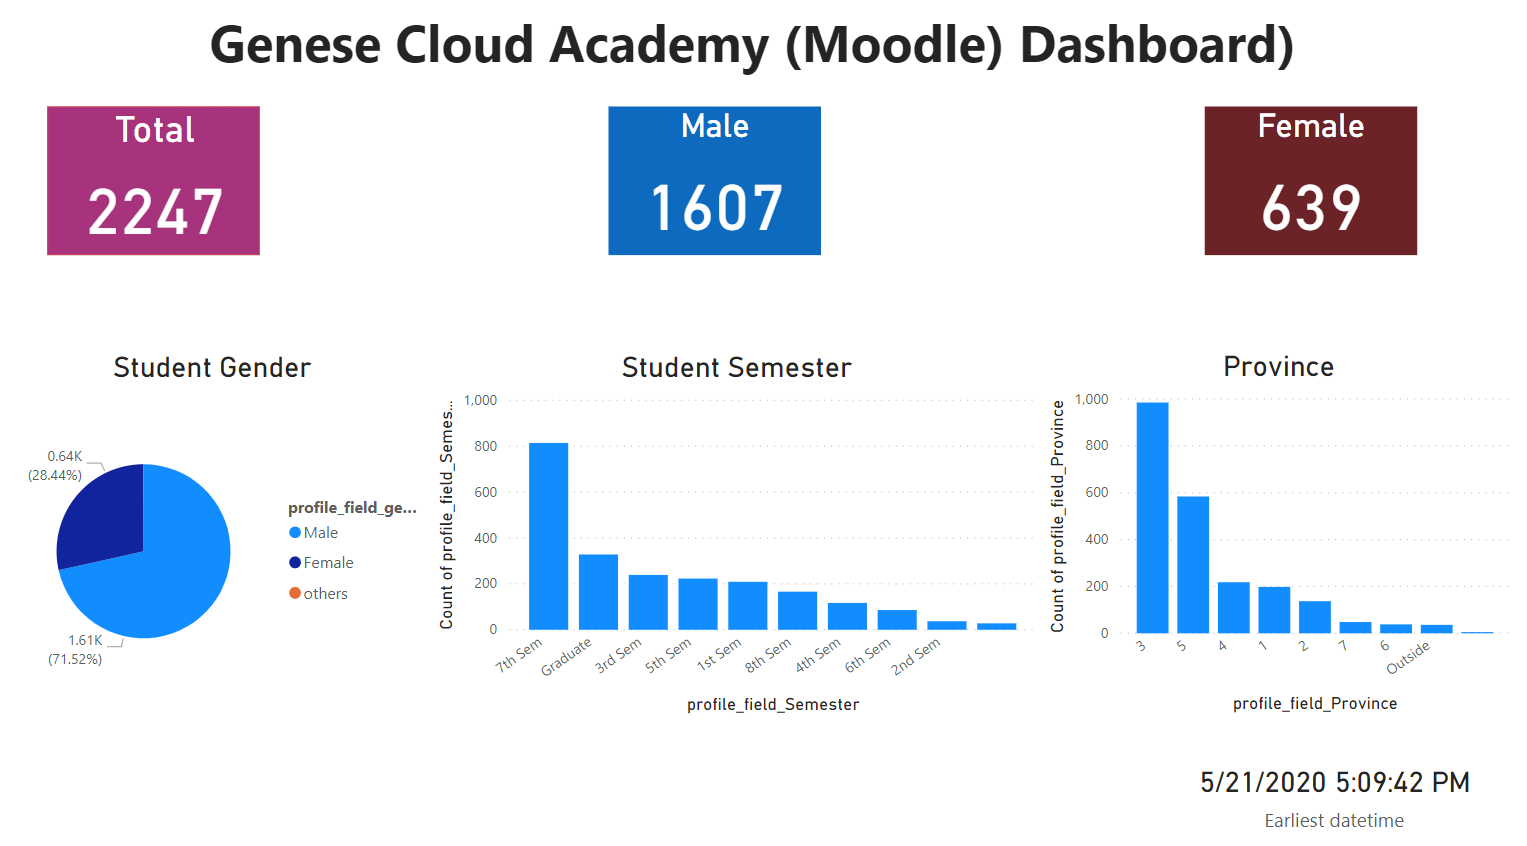

The dashboard page shown, as its layout file describes it:
{"tool":"powerbi","page":{"name":"Dashboard","canvas":[1280,720],"ordinal":0},"visuals":[{"type":"pieChart","title":"Student Gender","fields":{"Category":["user_latest.profile_field_gender1"],"Series":["user_latest.profile_field_gender1"],"Y":["CountNonNull(user_latest.profile_field_gender)"]},"box":[2.1,303.2,367.2,310.5],"z":0},{"type":"columnChart","title":"Student Semester","fields":{"Category":["user_latest.profile_field_Semester1"],"Y":["CountNonNull(user_latest.profile_field_Semester)1"]},"box":[369.4,303.2,513.4,310.5],"z":1000},{"type":"columnChart","title":"Province","fields":{"Category":["user_latest.profile_field_Province1"],"Y":["CountNonNull(user_latest.profile_field_Province)1"]},"box":[882.3,302.7,397.4,310.5],"z":2000},{"type":"card","title":"Total","fields":{"Values":["CountNonNull(user_latest.id)"]},"box":[47.1,98.8,178.8,124.4],"z":3000},{"type":"card","title":"Male","fields":{"Values":["CountNonNull(user_latest.profile_field_gender)"]},"box":[518.2,98.8,178.8,124.4],"z":4000},{"type":"card","title":"Female","fields":{"Values":["CountNonNull(user_latest.profile_field_gender)"]},"box":[1019.5,98.8,178.8,124.4],"z":5000},{"type":"textbox","box":[0,10.9,1279.3,72.5],"z":6000},{"type":"card","fields":{"Values":["Min(Kathmandu.datetime)"]},"box":[994.2,641.5,268.2,68.9],"z":7000}]}

Visuals, with their boxes in screenshot pixels (x1, y1, x2, y2), scaled from the page's 1280x720 canvas onto the 1527x846 screenshot:
"Student Gender" pieChart: x1=3, y1=356, x2=441, y2=721
"Student Semester" columnChart: x1=441, y1=356, x2=1053, y2=721
"Province" columnChart: x1=1053, y1=356, x2=1526, y2=721
"Total" card: x1=56, y1=116, x2=269, y2=262
"Male" card: x1=618, y1=116, x2=831, y2=262
"Female" card: x1=1216, y1=116, x2=1430, y2=262
textbox: x1=0, y1=13, x2=1526, y2=98
card - Min(Kathmandu.datetime): x1=1186, y1=754, x2=1506, y2=835
